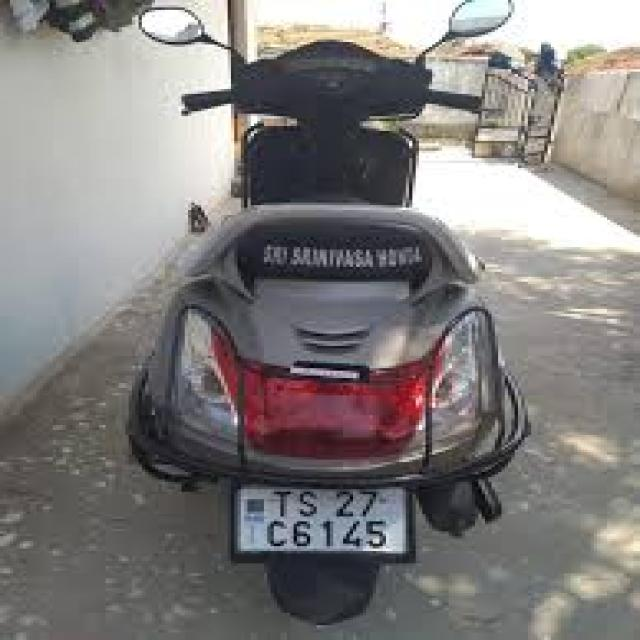number plate: (228, 479, 412, 558)
